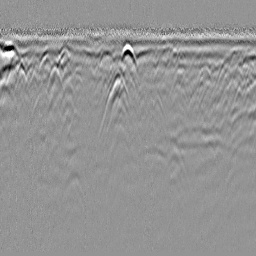cavity: (118, 41, 139, 75)
